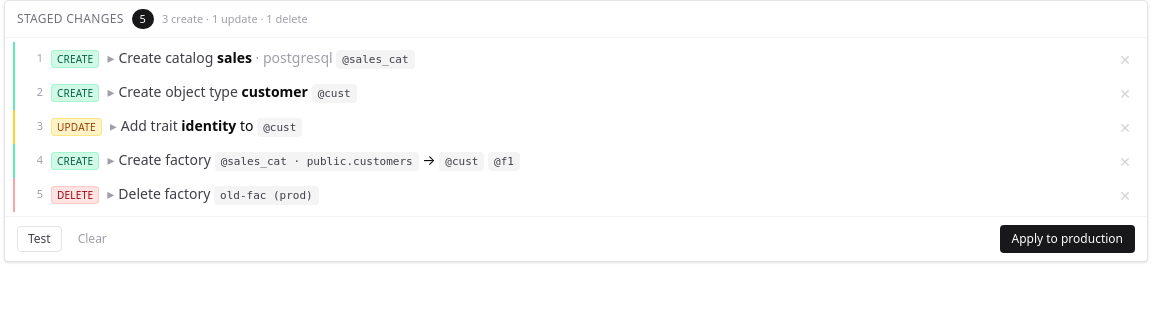
Test: ChangesetPanel › applies to production and shows the success banner
The image size is (1152, 330).
What coordinates should you click on to do the following:
click the button with test id "apply-changeset"
I would click on:
 (1067, 239)
Its box is [1000,225,1135,253].
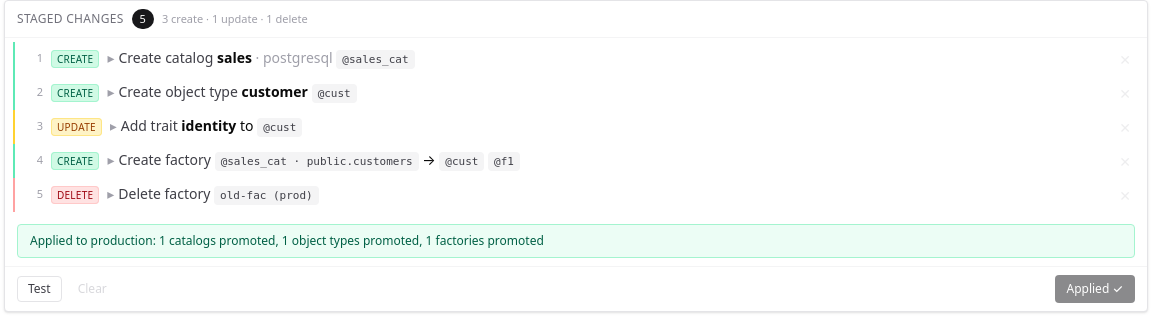
Expected: the text with test id "apply-success" shows "Applied to production", [30,232,153,249]
Expected: the text with test id "apply-success" shows "1 catalogs promoted", [153,232,544,249]
